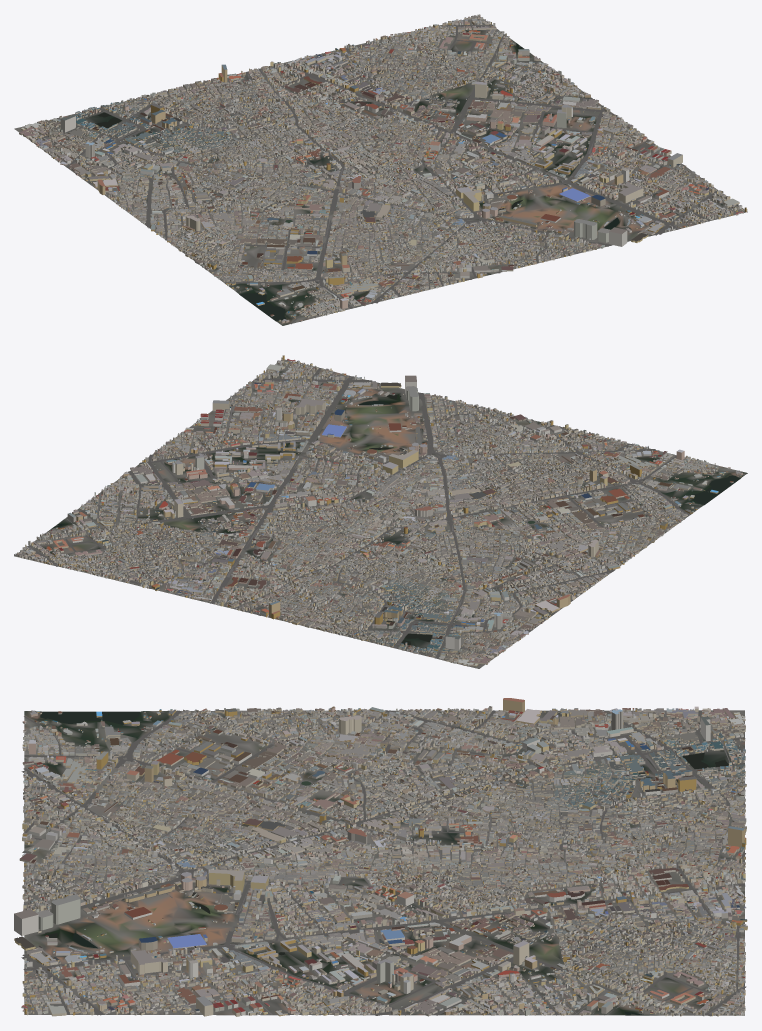
3 views of the same model, one above another, from view 1: azimuth 30°, elevation 25°; view 2: azimuth 150°, elevation 25°; view 3: azimuth 270°, elevation 25° (orthographic). The views are drawn at different scales.
Visible parts, largest first — view 1: buildings, ground, roads, water; view 2: buildings, ground, roads, water; view 3: buildings, ground, roads, water.
Part boxes in pixels (x1,y1,x2,y2): buildings: [19, 14, 747, 323]; ground: [14, 16, 747, 325]; roads: [30, 17, 742, 324]; water: [95, 41, 619, 320]; buildings: [14, 355, 742, 666]; ground: [14, 359, 747, 668]; roads: [17, 363, 739, 658]; water: [50, 394, 740, 648]; buildings: [14, 698, 747, 1016]; ground: [24, 710, 744, 1015]; roads: [21, 710, 746, 1016]; water: [40, 711, 728, 1015].
Bounding box in the file's own units: 2828 × 90.37 × 2853.
